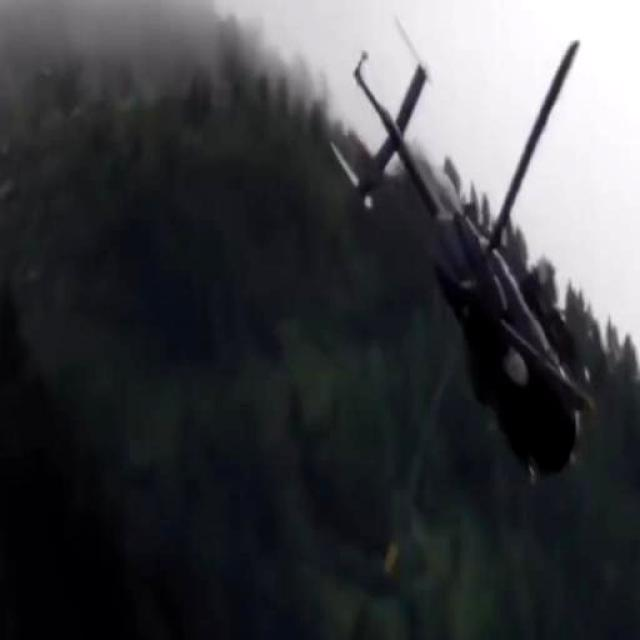drone: (321, 25, 599, 525)
